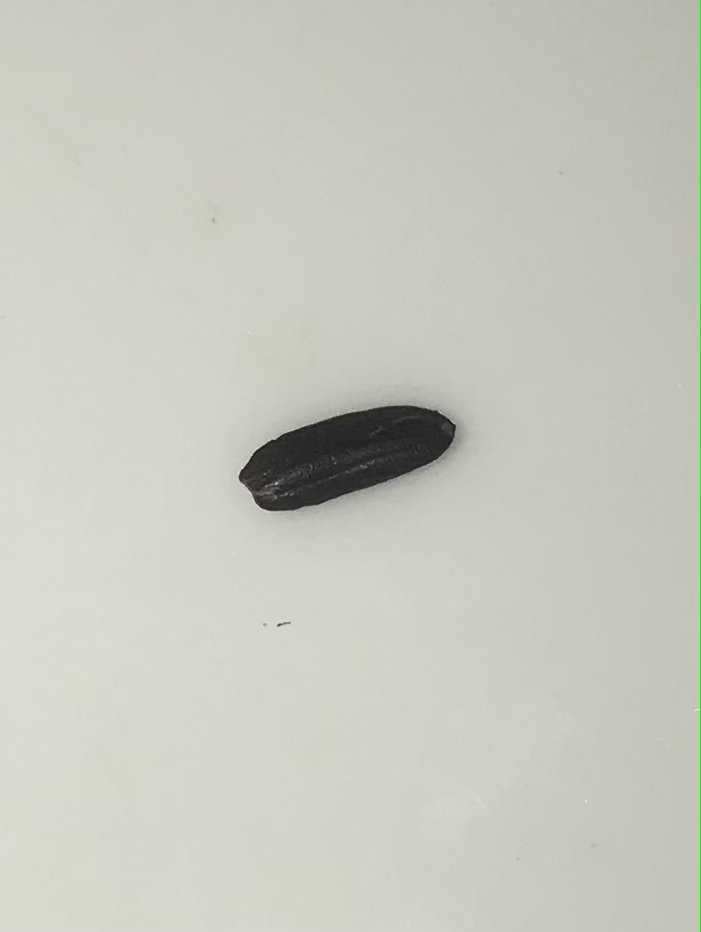Gao Nep Cam: (238, 381, 460, 526)
